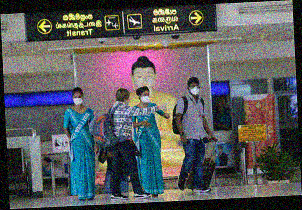with_mask: (188, 83, 200, 96), (72, 94, 83, 106), (140, 92, 149, 103)
without_mask: (121, 95, 131, 107)
